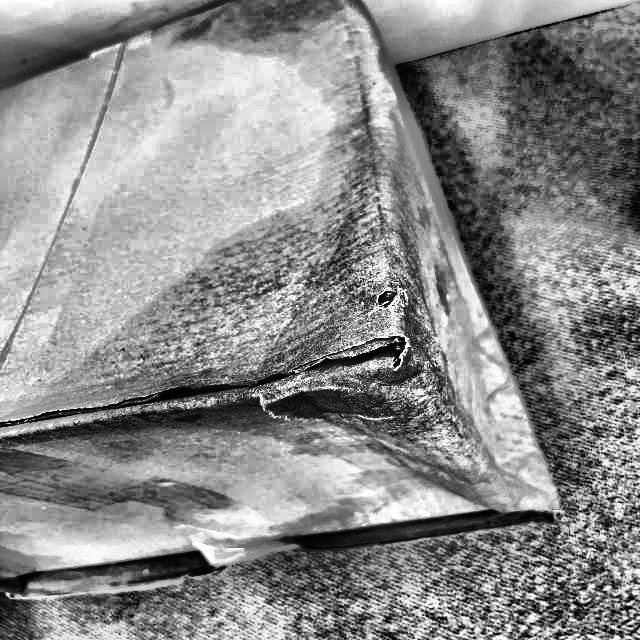box: (1, 0, 577, 607)
wet: (103, 0, 558, 546)
